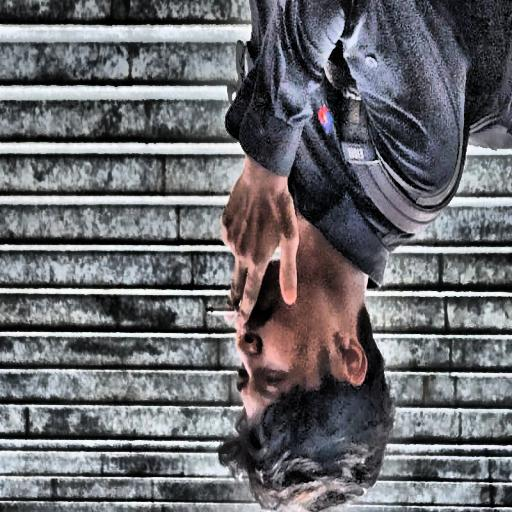Merokok: (206, 305, 237, 317)
Rokok: (207, 157, 369, 420)
